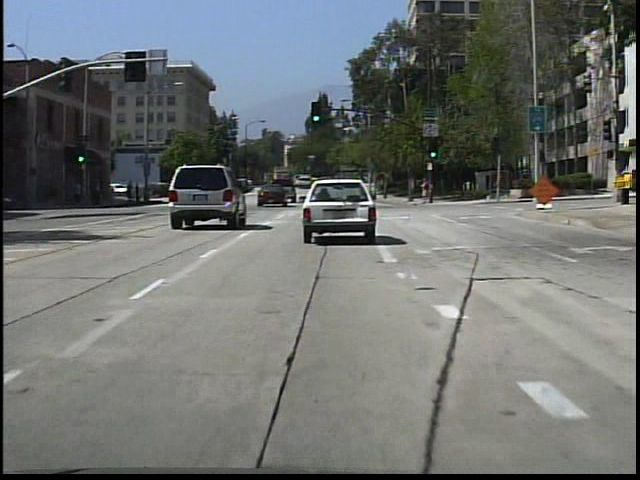person: (416, 174, 432, 209)
